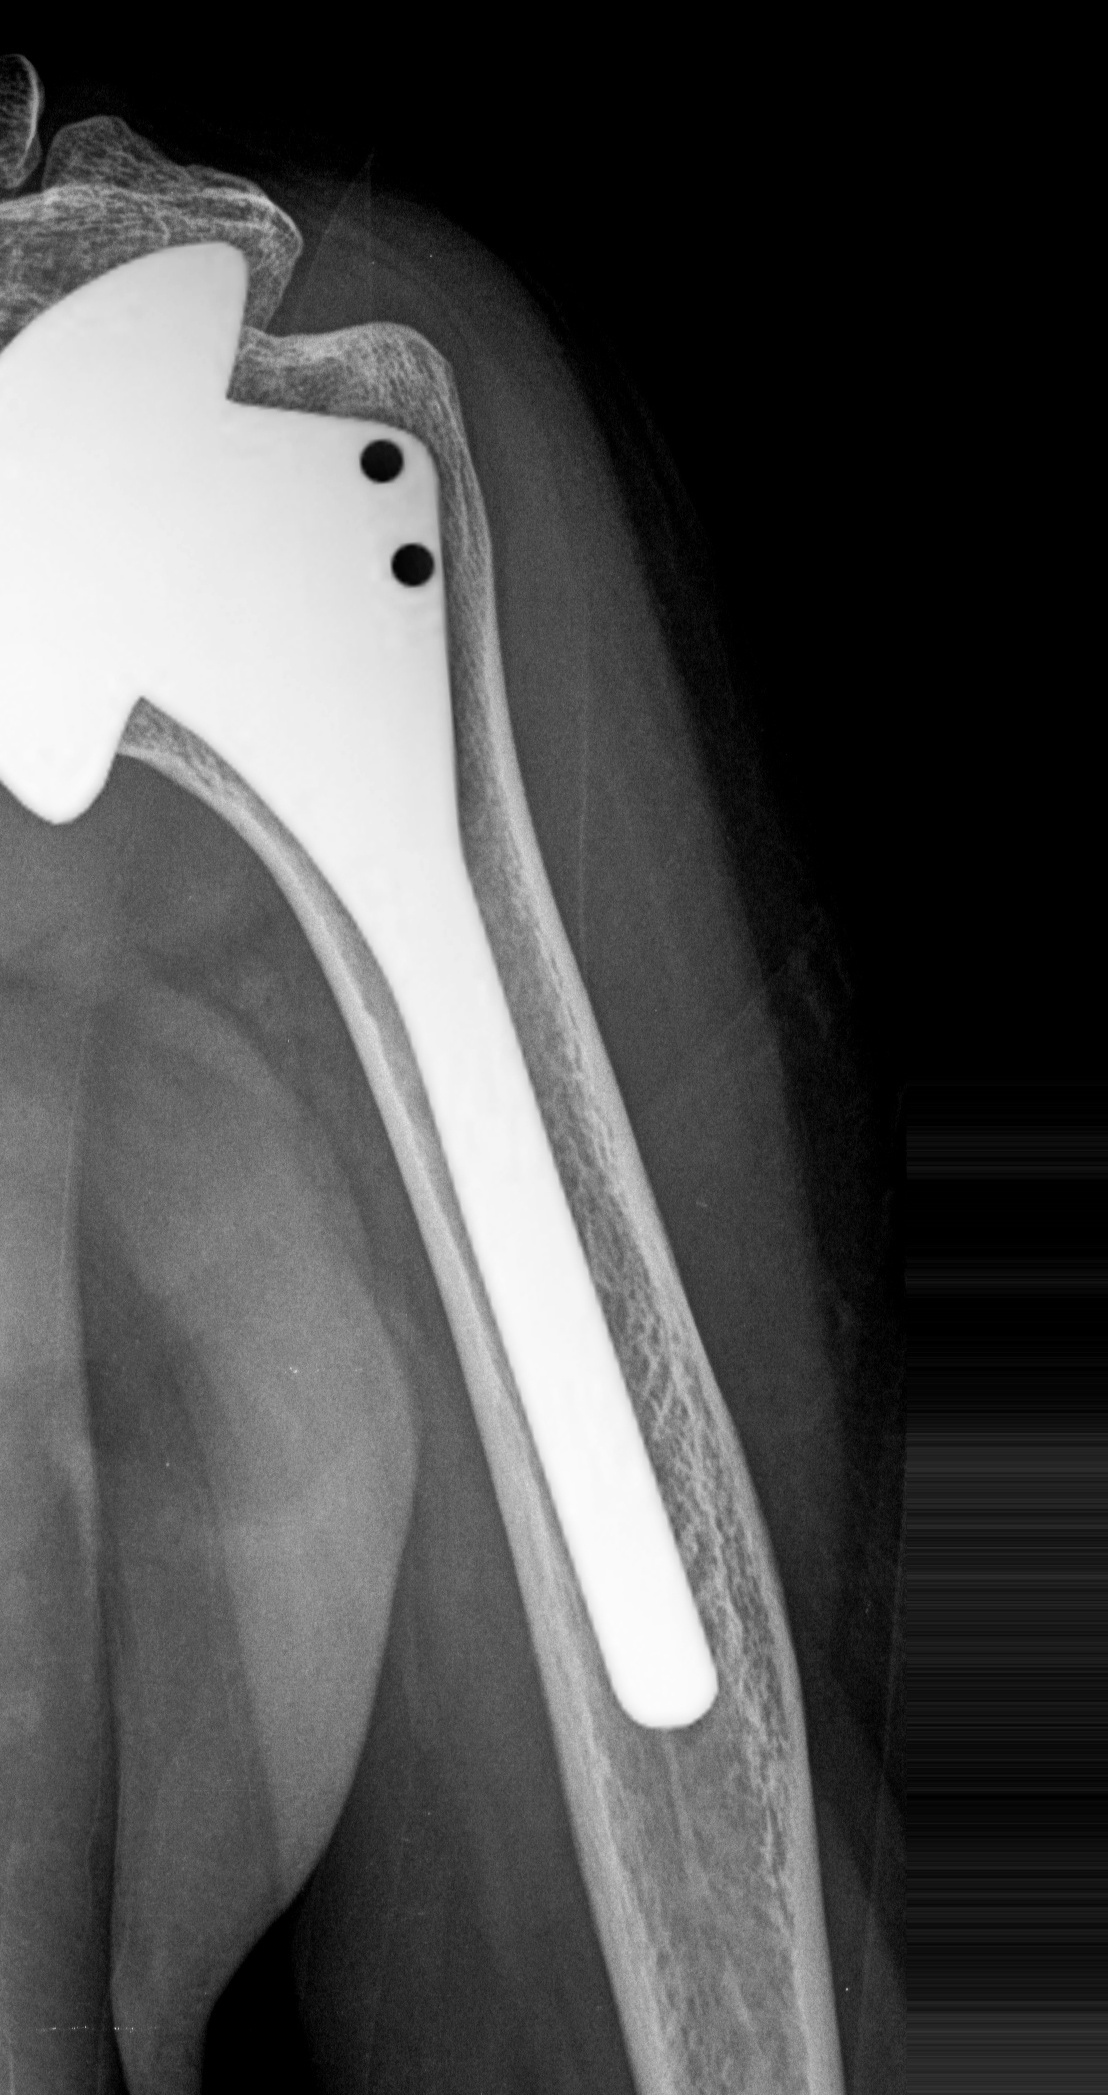Shoulder - Aequalishead - Tornier: (1, 211, 259, 829)
Shoulder - Aequalistail - Tornier: (65, 238, 490, 876)
